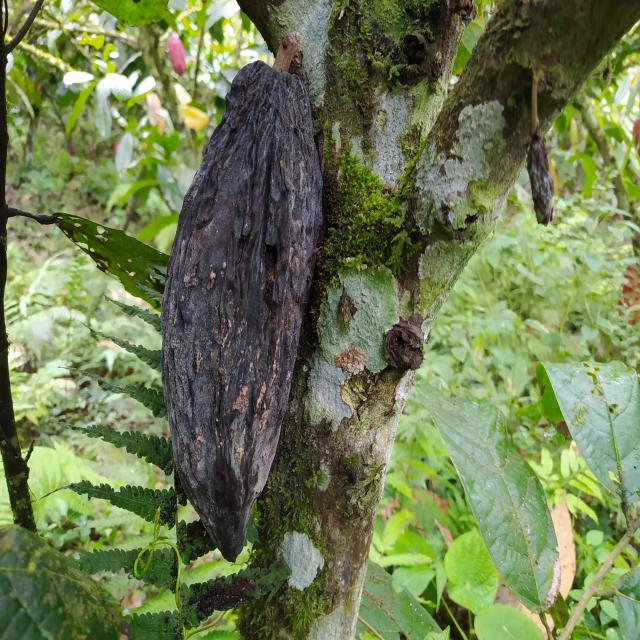Fitoftora: (159, 57, 322, 564)
